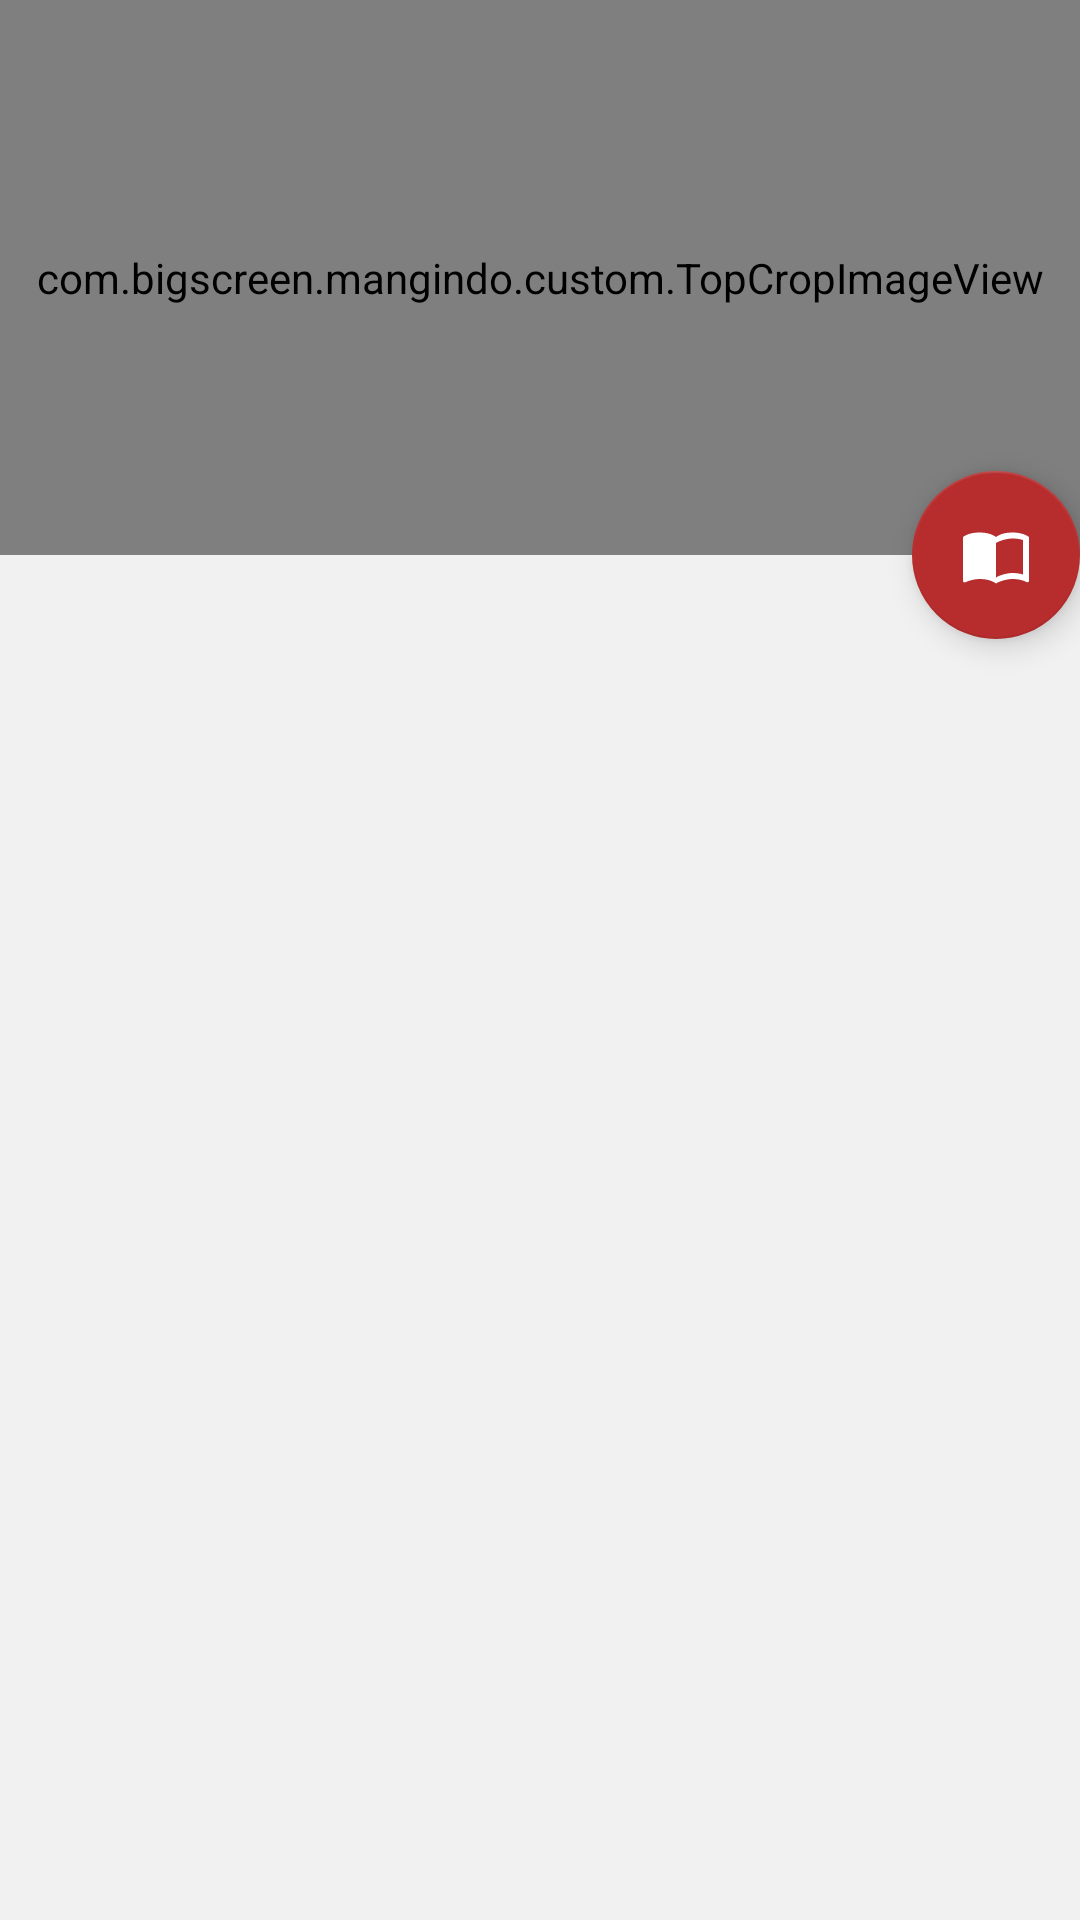

Point at icon controls on the screen. Image size 1080 × 1920, points as [x,y].
book: [996,555]
